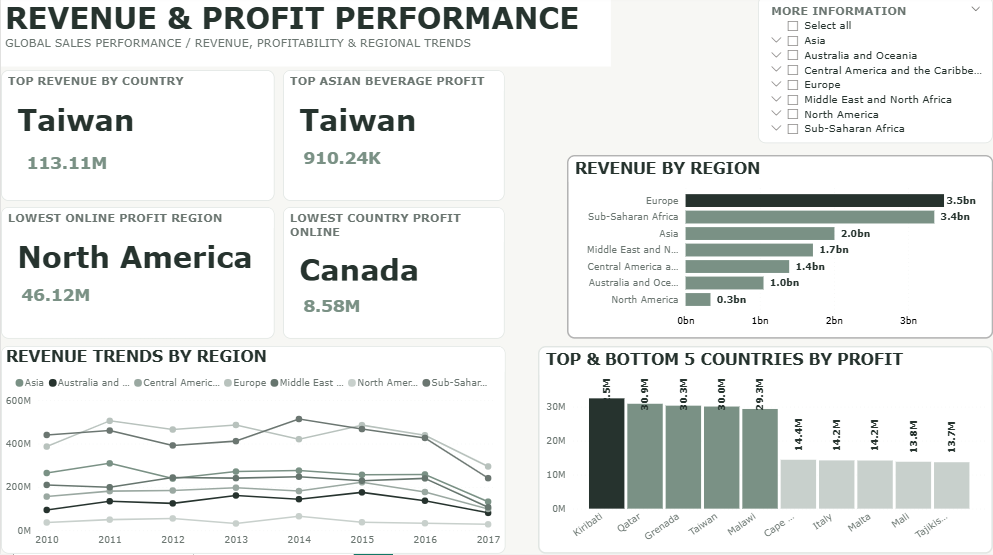

What the dashboard file says about the page in this screenshot:
{"tool":"powerbi","page":{"name":"Revenue & Profit Analysis","canvas":[1280,720],"ordinal":0},"visuals":[{"type":"clusteredBarChart","title":"REVENUE BY REGION","fields":{"Category":["Global_Sales_Data.Region"],"Y":["Sum(Global_Sales_Data.Total Revenue)"]},"box":[729.9,205.5,549.9,236.7],"z":0},{"type":"lineChart","title":"REVENUE TRENDS BY REGION","fields":{"Category":["Global_Sales_Data.Order Date.Variation.Date Hierarchy.Year"],"Y":["Sum(Global_Sales_Data.Total Revenue)"],"Series":["Global_Sales_Data.Region"]},"box":[0,452.1,650.6,267.9],"z":1000},{"type":"cardVisual","title":"TOP REVENUE BY COUNTRY","fields":{"Data":["Sum(Global_Sales_Data.Total Revenue)"],"Rows":["Global_Sales_Data.Country"]},"box":[0,95,352.9,169],"z":2000},{"type":"cardVisual","title":"LOWEST ONLINE PROFIT REGION","fields":{"Rows":["Global_Sales_Data.Region"],"Data":["Sum(Global_Sales_Data.Total Profit)"]},"box":[0,272.1,352.9,170.1],"z":3000},{"type":"cardVisual","title":"LOWEST COUNTRY PROFIT ONLINE","fields":{"Rows":["Global_Sales_Data.Country"],"Data":["Sum(Global_Sales_Data.Total Profit)"]},"box":[364.3,272.1,286.3,170.1],"z":4000},{"type":"cardVisual","title":"TOP ASIAN BEVERAGE PROFIT","fields":{"Rows":["Global_Sales_Data.Country"],"Data":["Sum(Global_Sales_Data.Total Profit)"]},"box":[364.3,95,286.3,169],"z":5000},{"type":"slicer","fields":{"Values":["Global_Sales_Data.Region","Global_Sales_Data.Country"]},"box":[976.5,0,303.3,190],"z":6000},{"type":"clusteredColumnChart","title":"TOP & BOTTOM 5 COUNTRIES BY PROFIT","fields":{"Category":["Global_Sales_Data.Country"],"Y":["Sum(Global_Sales_Data.Total Profit)"]},"box":[693.1,452.1,586.8,267.9],"z":7000},{"type":"textbox","box":[0,0,786.6,91],"z":8000}]}

Visuals, with their boxes in screenshot pixels (x1, y1, x2, y2), scaled from the page's 1280x720 canvas onto the 993x555 screenshot:
"REVENUE BY REGION" clusteredBarChart: (566,158,992,341)
"REVENUE TRENDS BY REGION" lineChart: (0,348,505,554)
"TOP REVENUE BY COUNTRY" cardVisual: (0,73,274,204)
"LOWEST ONLINE PROFIT REGION" cardVisual: (0,210,274,341)
"LOWEST COUNTRY PROFIT ONLINE" cardVisual: (283,210,505,341)
"TOP ASIAN BEVERAGE PROFIT" cardVisual: (283,73,505,204)
slicer - Global_Sales_Data.Region x Global_Sales_Data.Country: (758,0,992,146)
"TOP & BOTTOM 5 COUNTRIES BY PROFIT" clusteredColumnChart: (538,348,992,554)
textbox: (0,0,610,70)
